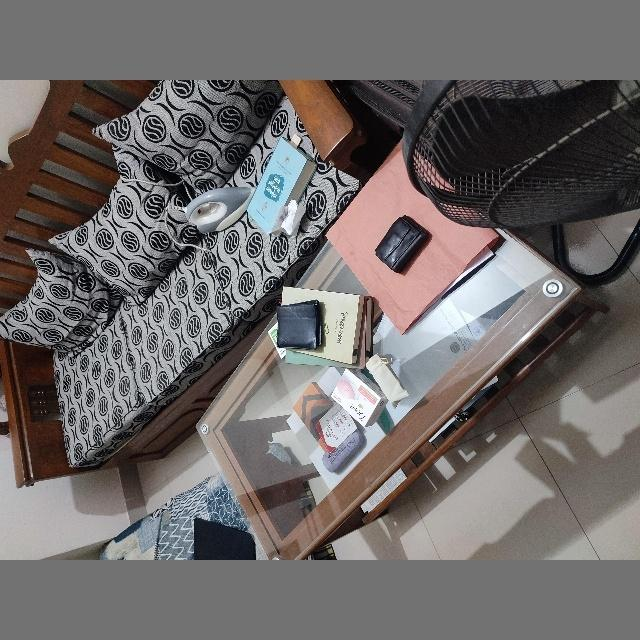Wallet: (374, 216, 430, 274), (276, 300, 324, 350)
